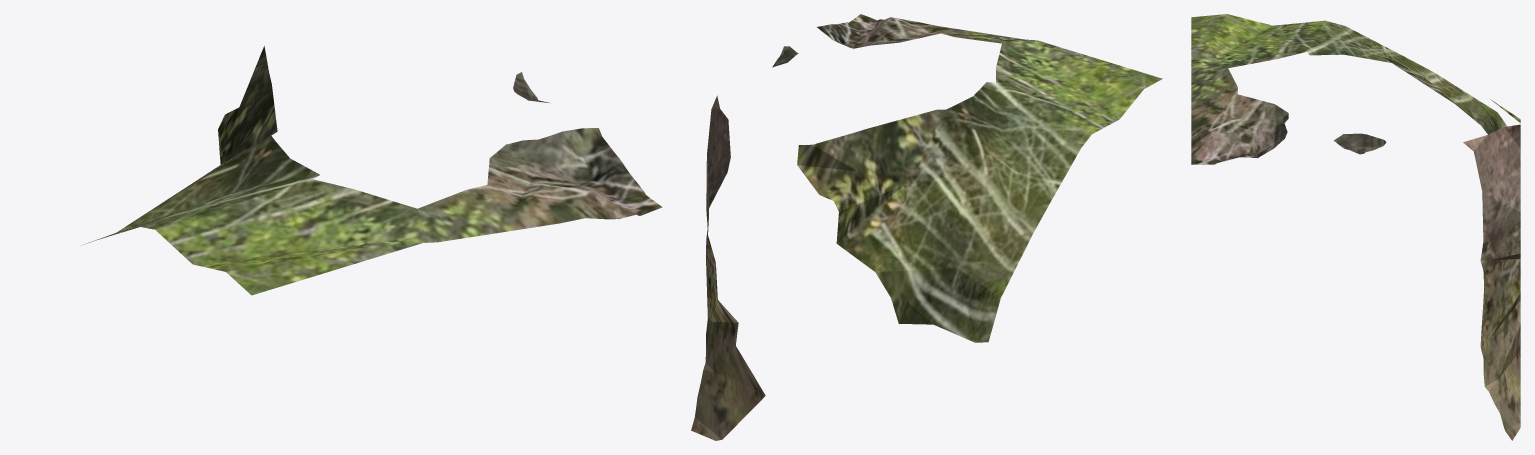
3 renders of one model, left to right at view 1: azimuth 30°, elevation 25°; view 2: azimuth 150°, elevation 25°; view 3: azimuth 270°, elevation 25°, orthographic. The views are drawn at different scales.
Bounding box in the file's own units: 2.95 × 2.95 × 2.95.
Materials: 2 (2 with a texture image).
